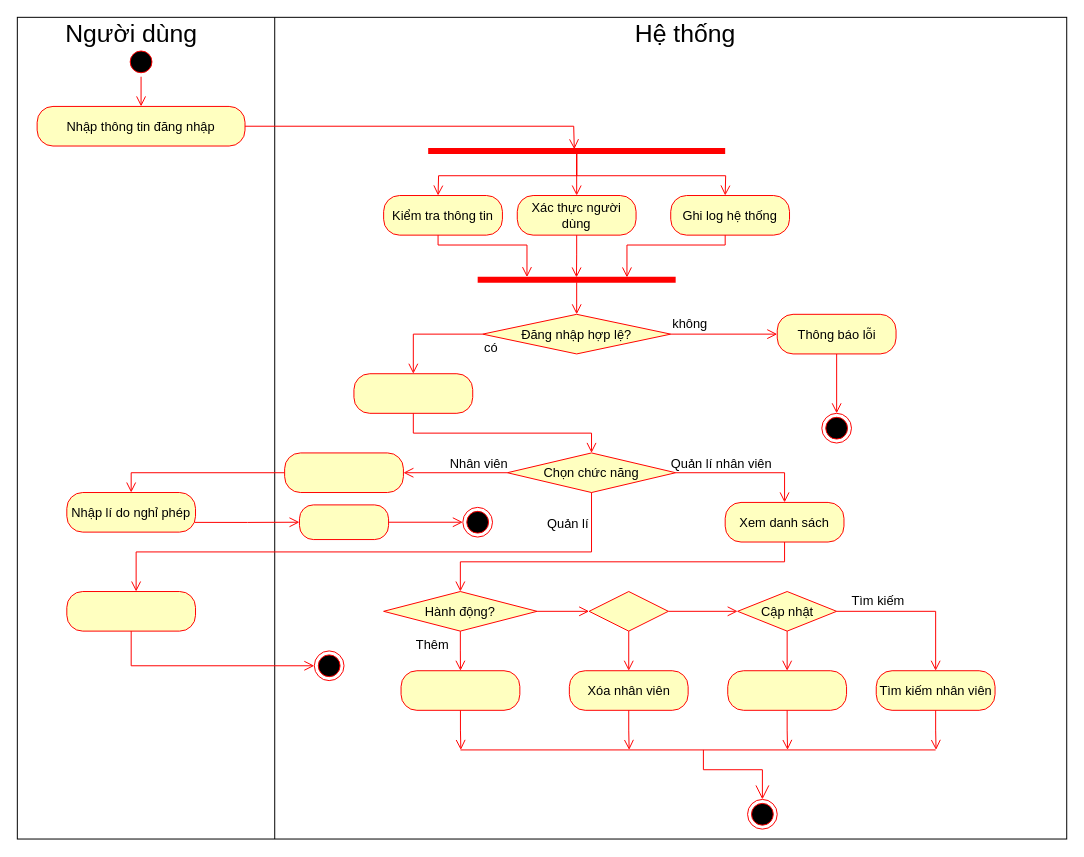
Image size: 1084x857. Some labels were removed from this diagram. The centre of each missing label's shape, as x and y in pixels:
"Cập nhật nhân viên" goes at pixel 787 690.
"Duyệt/từ chối đơn" goes at pixel 131 611.
"Gửi đơn" goes at pixel 343 522.
"Hiển thị menu" goes at pixel 413 393.
"Thêm nhân viên" goes at pixel 460 690.
"Tạo đơn xin nghỉ" goes at pixel 343 472.
"Xóa" goes at pixel 628 611.
